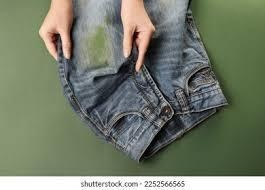earth: (85, 25, 109, 64)
